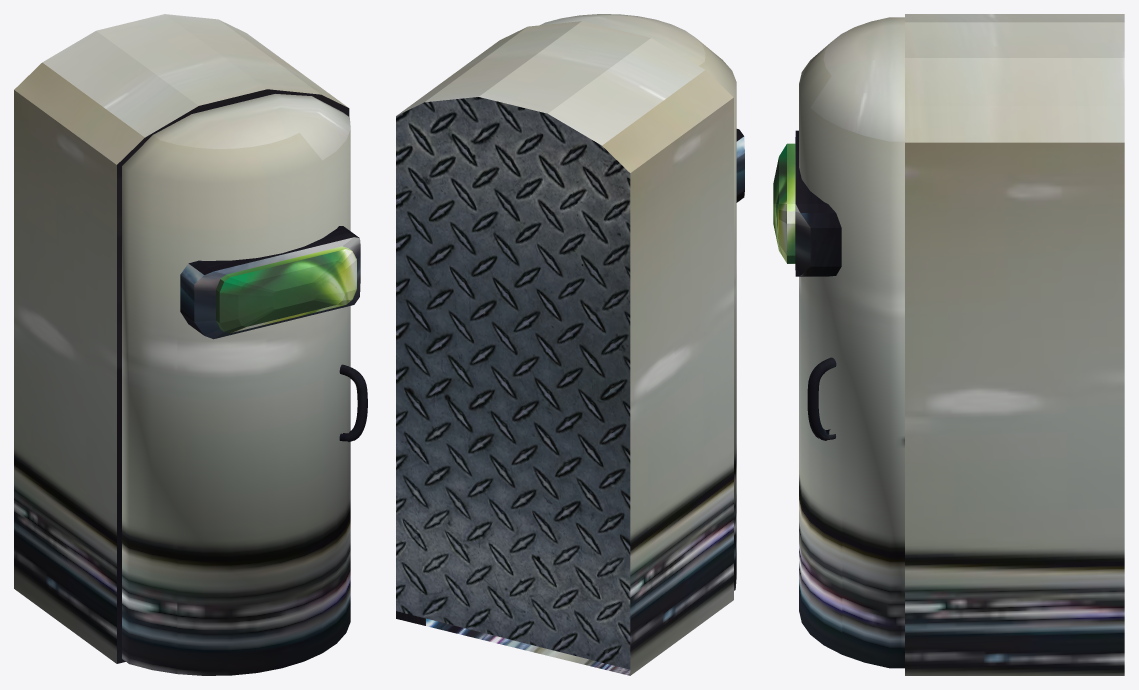
File: Fridge.fbx
3 views of the same model, side by side, from view 1: azimuth 30°, elevation 25°; view 2: azimuth 150°, elevation 25°; view 3: azimuth 270°, elevation 25° (orthographic). The views are drawn at different scales.
Visible parts, largest first — view 1: Cube.004; view 2: Cube.004; view 3: Cube.004.
Boxes of the visible parts, x1,y1,x2,y2 form: Cube.004: [14, 14, 367, 675]; Cube.004: [396, 14, 744, 675]; Cube.004: [773, 14, 1124, 675].
Bounding box in the file's own units: 2.29 × 2.81 × 5.07.
